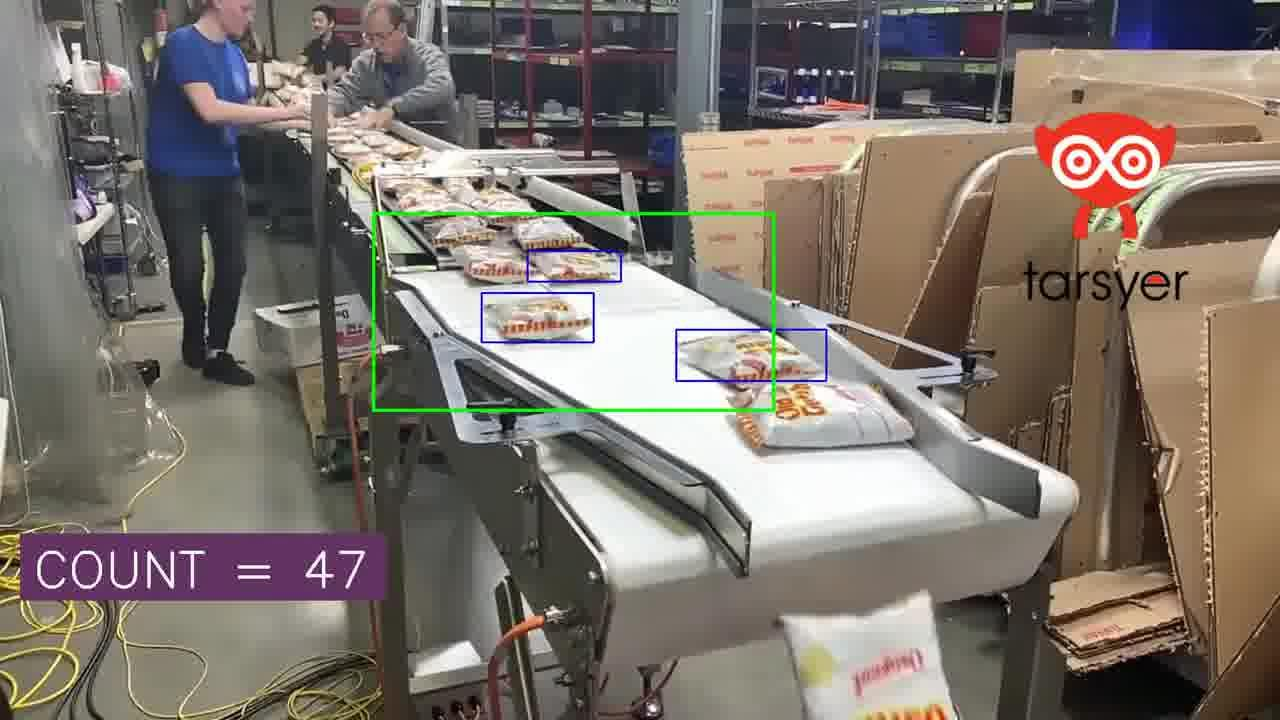Snack: (780, 592, 957, 719), (736, 383, 913, 448), (485, 295, 591, 339), (680, 331, 772, 380), (529, 250, 619, 281), (454, 245, 526, 281), (420, 215, 496, 248), (468, 189, 533, 226), (513, 217, 583, 249), (396, 184, 458, 211), (380, 176, 444, 194), (442, 178, 477, 206), (377, 140, 420, 160), (331, 142, 371, 158), (359, 131, 396, 148), (327, 127, 357, 147)
